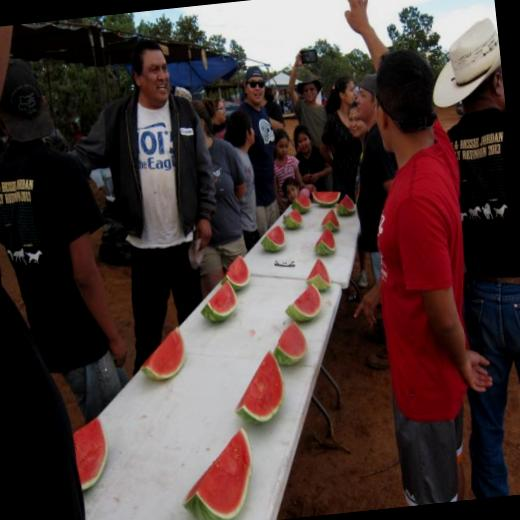Cherry: (174, 425, 261, 520), (231, 350, 289, 426), (68, 415, 112, 489), (136, 325, 188, 382), (270, 319, 308, 367), (198, 278, 239, 322), (282, 283, 322, 323), (217, 255, 250, 291), (304, 256, 331, 293), (258, 223, 287, 253), (313, 226, 334, 256), (312, 188, 341, 208), (319, 207, 340, 231), (335, 192, 354, 218), (282, 208, 302, 228), (291, 194, 311, 214)
